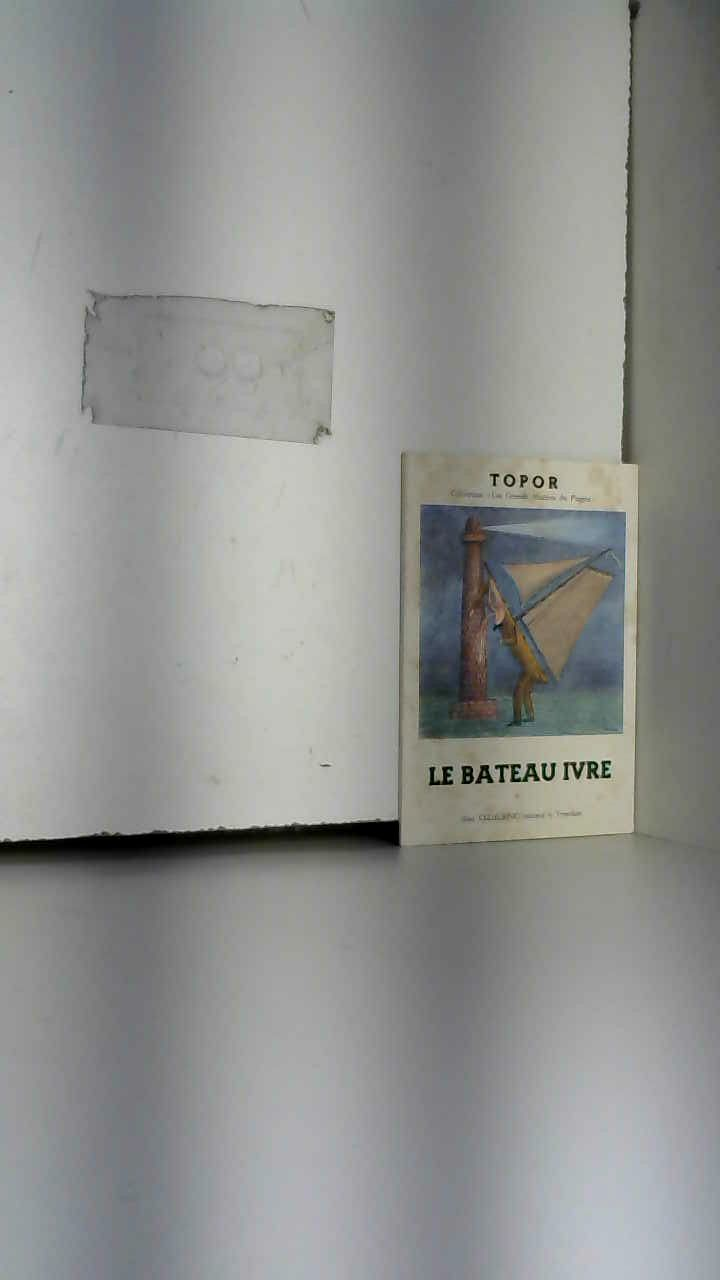book: (370, 411, 669, 890)
